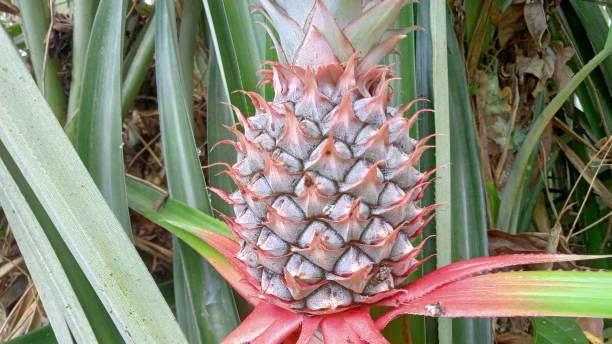pineapple: (194, 33, 452, 343)
